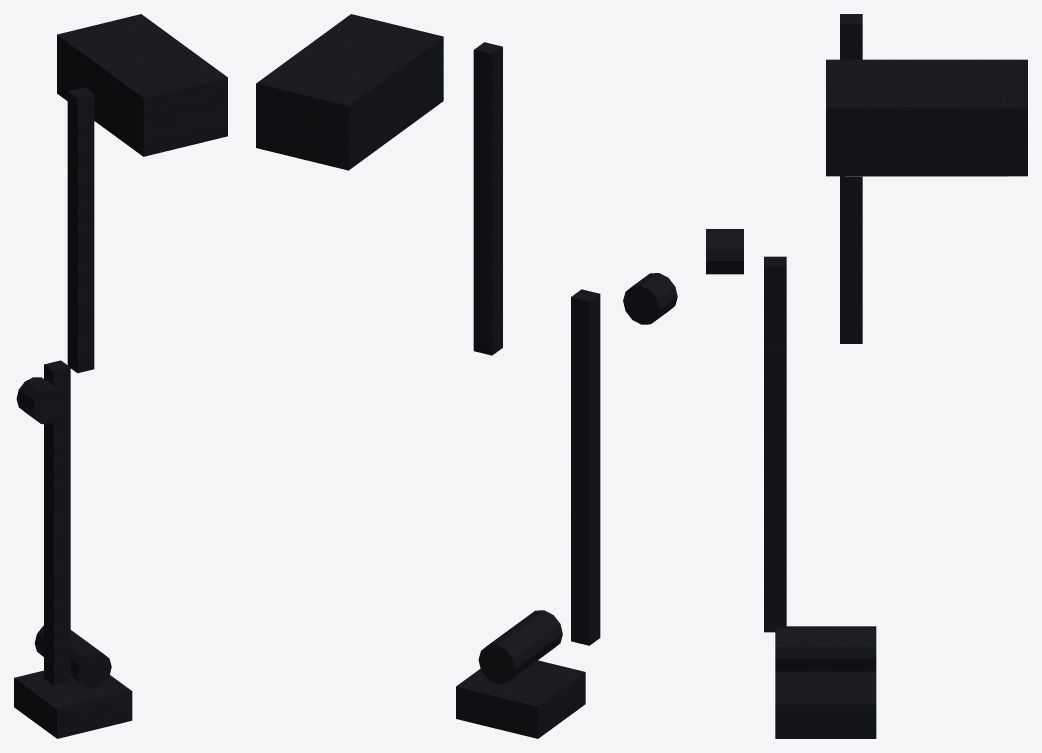
File: task_lamp_arm.glb
3 renders of one model, left to right at view 1: azimuth 30°, elevation 25°; view 2: azimuth 150°, elevation 25°; view 3: azimuth 270°, elevation 25°, orthographic. The views are drawn at different scales.
Parts seen in each view (by area): view 1: LampBody; view 2: LampBody; view 3: LampBody.
Part boxes in pixels (x1,y1,x2,y2): LampBody: (14, 14, 227, 738); LampBody: (256, 14, 677, 738); LampBody: (706, 14, 1027, 738).
Bounding box in the file's own units: 0.263 × 0.62 × 0.255.
2 materials, 1 textured.
